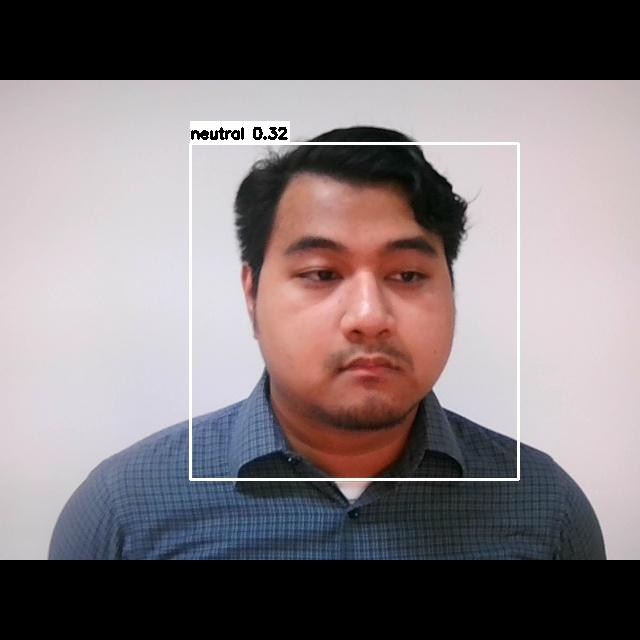Natural: (266, 216, 462, 424)
